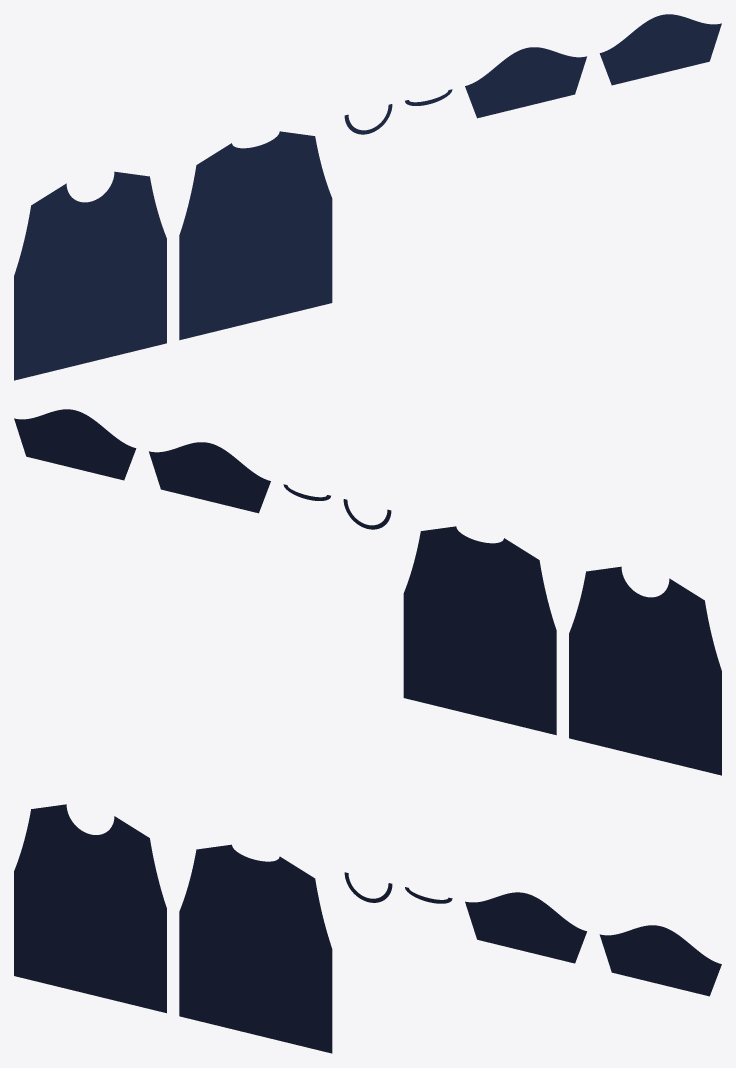
The model's file is camiseta-basica-supima-unisex-talla-XL.glb.
The picture shows the model from 3 angles, top to bottom: view 1: azimuth 30°, elevation 25°; view 2: azimuth 150°, elevation 25°; view 3: azimuth 330°, elevation 25°; orthographic projection.
Visible parts, largest first — view 1: patron-espalda, patron-delantero, patron-manga-der, patron-manga-izq; view 2: patron-espalda, patron-delantero, patron-manga-der, patron-manga-izq; view 3: patron-espalda, patron-delantero, patron-manga-izq, patron-manga-der.
Part boxes in pixels (bbox=[...]): patron-espalda: bbox=[179, 131, 332, 340]; patron-delantero: bbox=[14, 171, 166, 380]; patron-manga-der: bbox=[599, 14, 721, 85]; patron-manga-izq: bbox=[465, 47, 586, 118]; patron-espalda: bbox=[403, 526, 556, 735]; patron-delantero: bbox=[569, 566, 721, 775]; patron-manga-der: bbox=[14, 409, 136, 480]; patron-manga-izq: bbox=[149, 442, 270, 513]; patron-espalda: bbox=[179, 844, 332, 1053]; patron-delantero: bbox=[14, 804, 166, 1013]; patron-manga-izq: bbox=[465, 892, 586, 963]; patron-manga-der: bbox=[599, 925, 721, 996].
Size of the model in its own units: 2.89 by 0.81 by 0.
